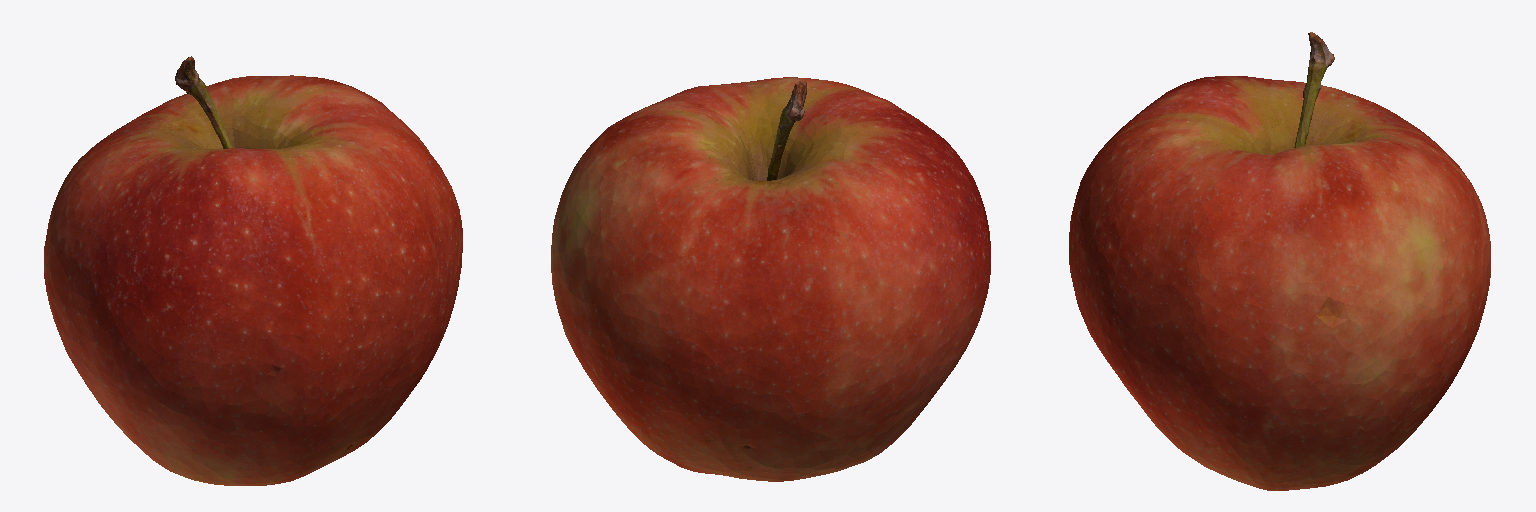
The picture shows the model from 3 angles: view 1: azimuth 30°, elevation 25°; view 2: azimuth 150°, elevation 25°; view 3: azimuth 270°, elevation 25°; orthographic projection.
Visible parts, largest first — view 1: apple_medium_1k; view 2: apple_medium_1k; view 3: apple_medium_1k.
Part boxes in pixels (left/top/right/bottom): apple_medium_1k: left=44, top=56, right=462, bottom=485; apple_medium_1k: left=551, top=77, right=990, bottom=481; apple_medium_1k: left=1069, top=32, right=1490, bottom=490.
Size of the model in its own units: 0.1156 by 0.1197 by 0.1151.
Materials: 1 (1 with a texture image).